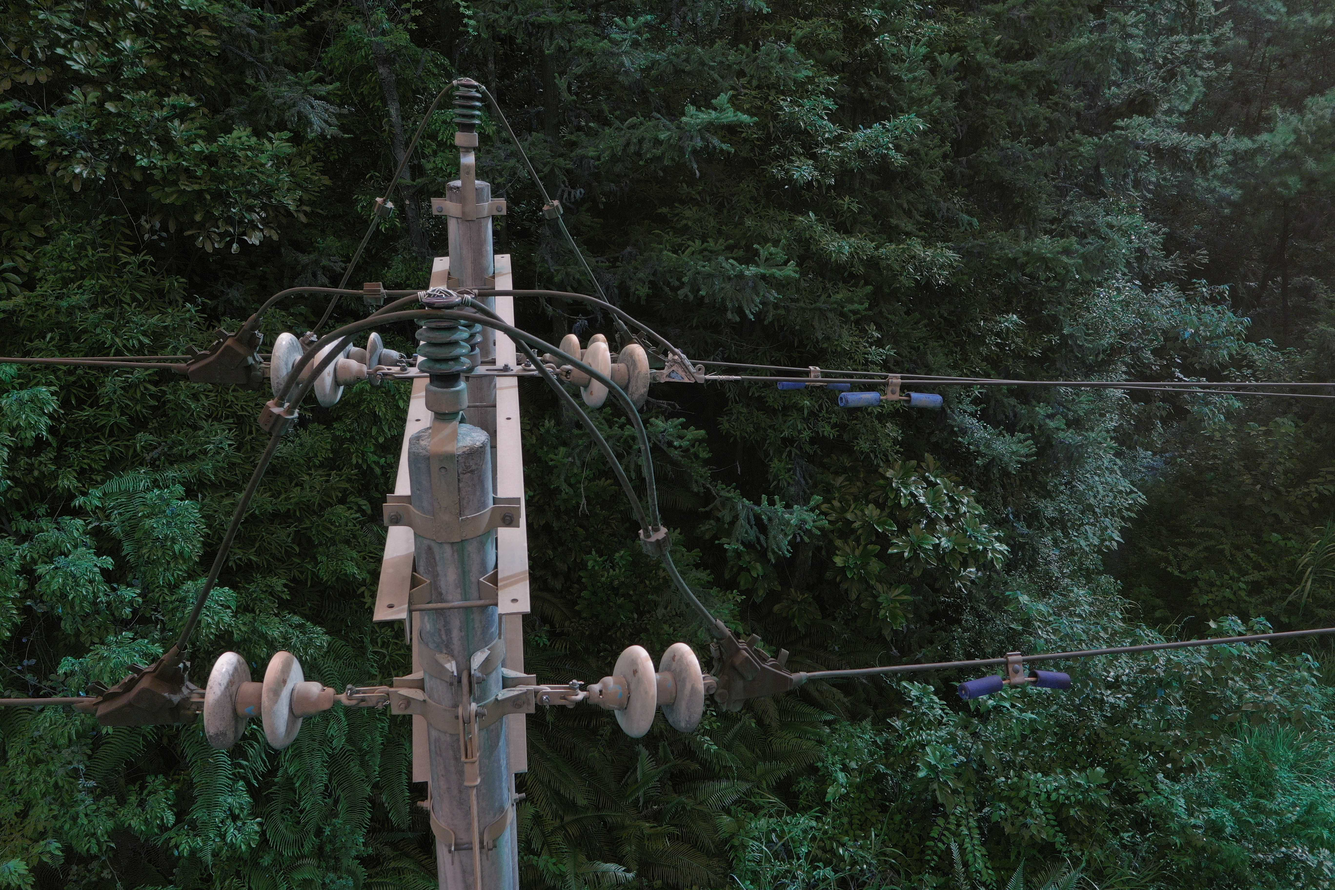severe_soiling_no_discharge_whole: (202, 649, 336, 752), (587, 637, 708, 737), (411, 288, 474, 422), (269, 332, 371, 409), (556, 340, 652, 412), (337, 329, 409, 388), (448, 77, 486, 151), (452, 288, 485, 373)
